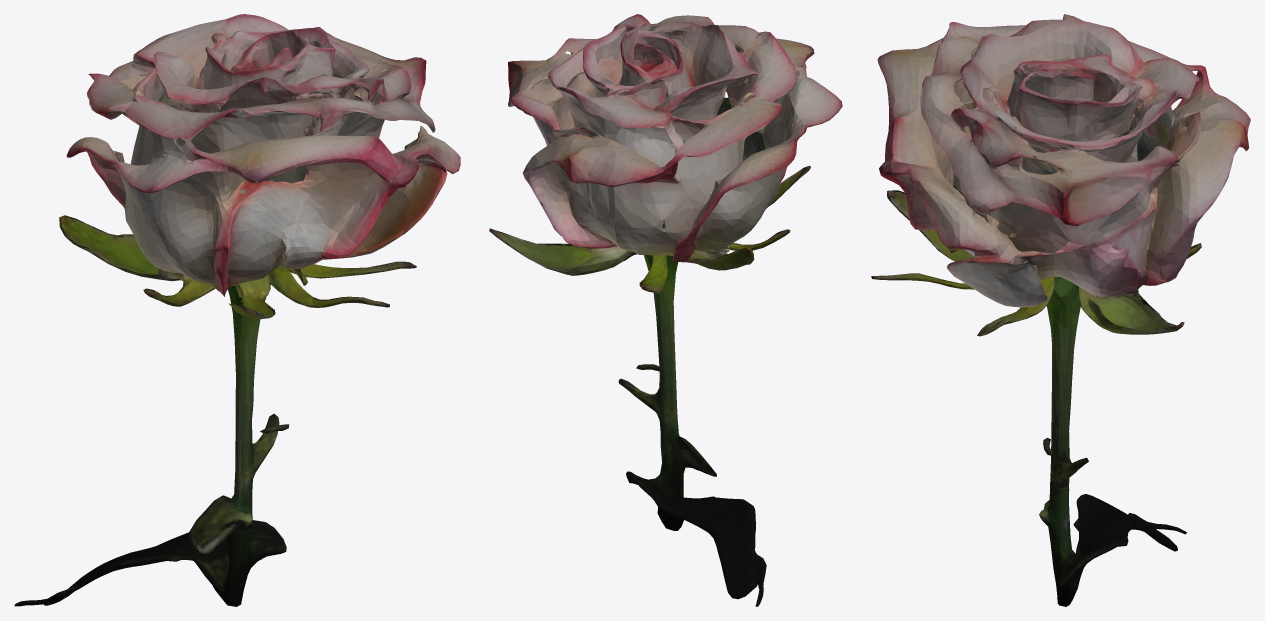
The picture shows the model from 3 angles, left to right: view 1: azimuth 30°, elevation 25°; view 2: azimuth 150°, elevation 25°; view 3: azimuth 270°, elevation 25°; orthographic projection. The views are drawn at different scales.
Parts seen in each view (by area): view 1: world; view 2: world; view 3: world.
Part boxes in pixels (x1,y1,x2,y2): world: [14, 14, 460, 606]; world: [489, 14, 842, 606]; world: [871, 14, 1250, 606].
Bounding box in the file's own units: 0.6413 × 0.9911 × 0.5964.
Materials: 1 (1 with a texture image).
